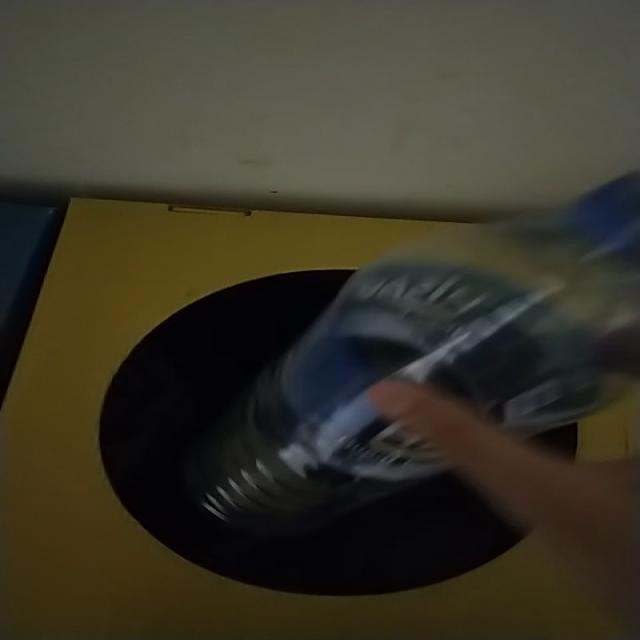plastic: (191, 175, 640, 535)
